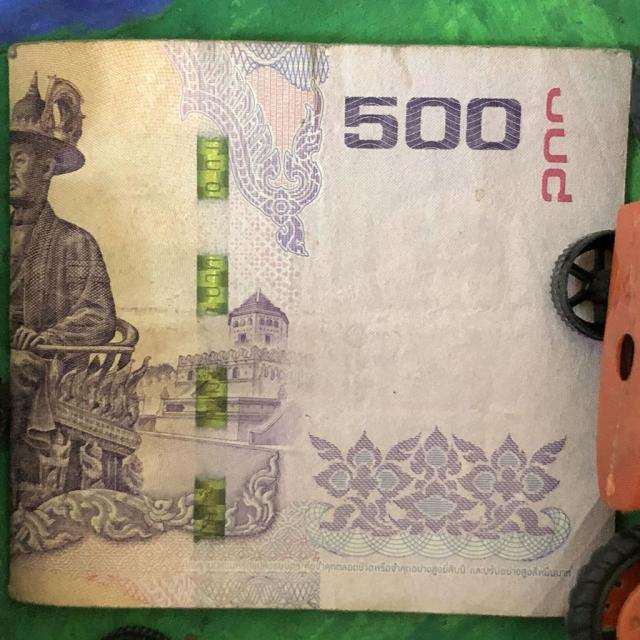THAI500: (9, 41, 631, 616)
